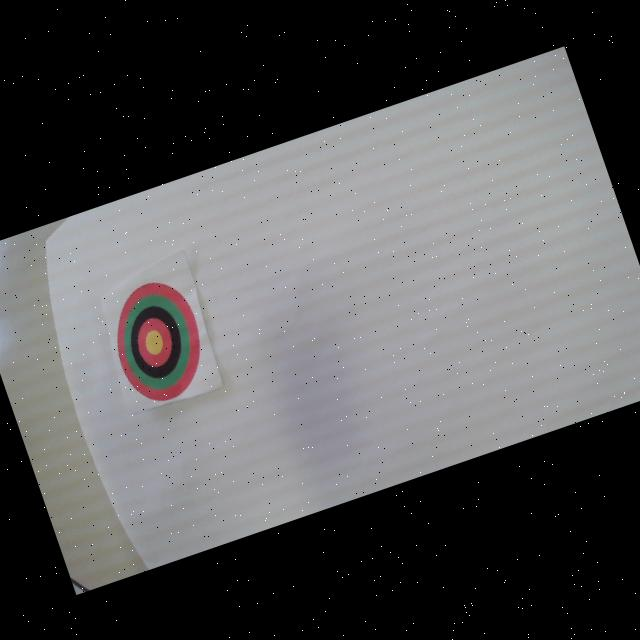COGNITIVE: (98, 270, 218, 412)
